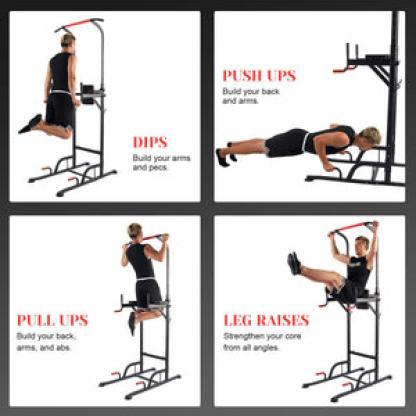chinning dipping: (20, 17, 118, 198), (100, 234, 182, 400)
